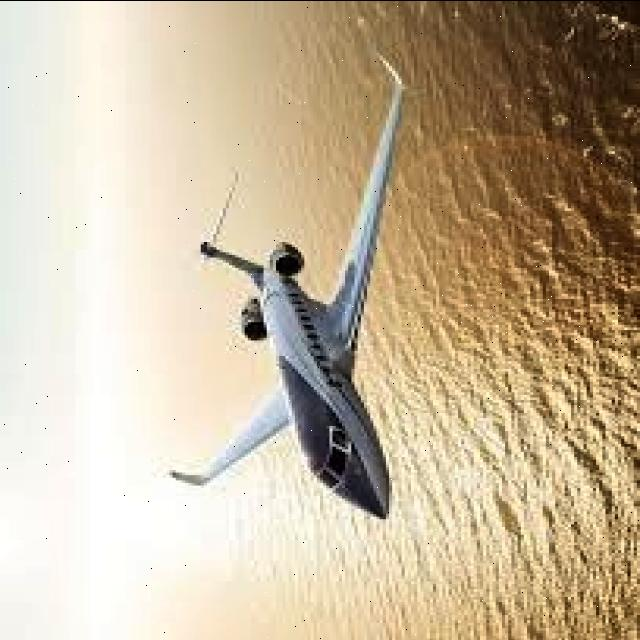jet: (98, 96, 500, 570)
